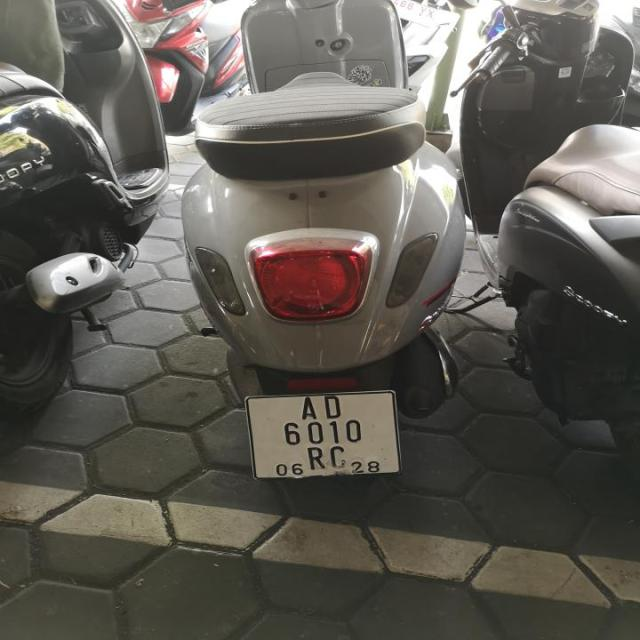License Plate: (245, 388, 403, 481)
